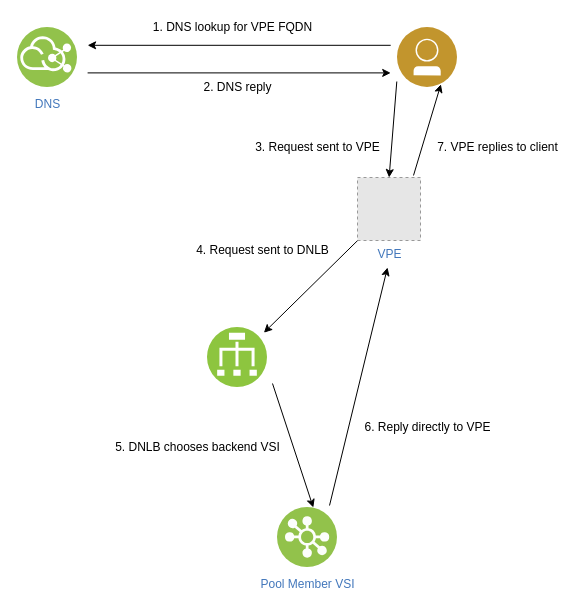
This 584x608 diagram has some shape labels left out. Grey dashed boxes stand in for pictures. Here are the shapes that lost their labels. From the top down, the centre of each, then its label:
the point at 427,57: Client
the point at 237,357: Service DNLB
